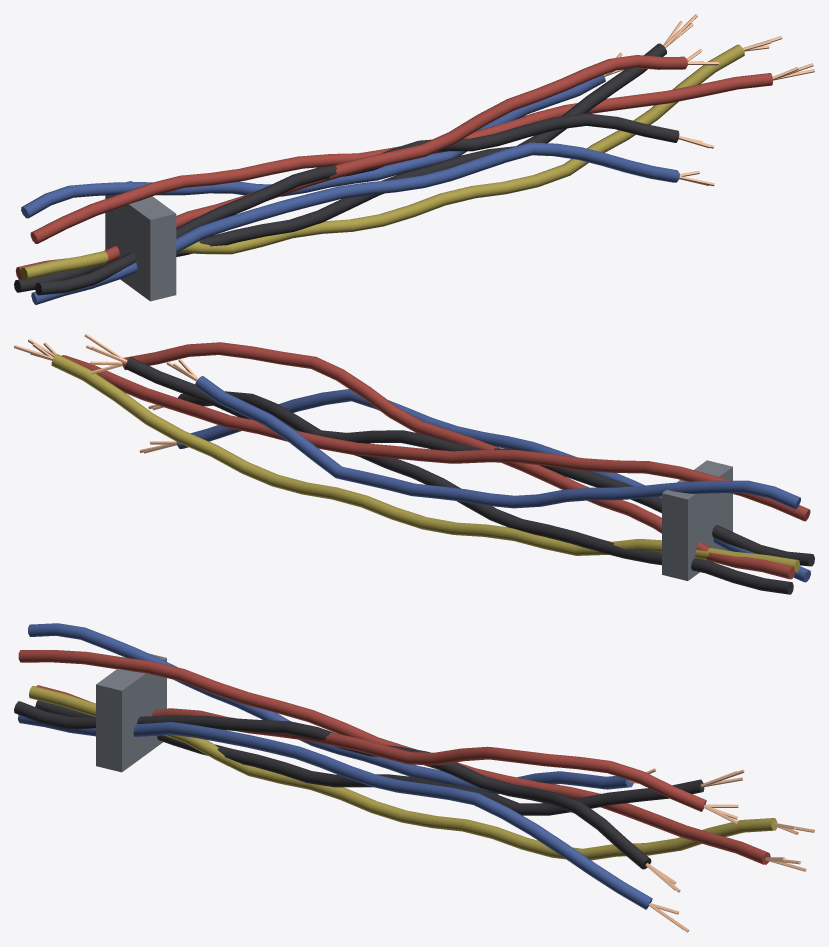
File: cable_bundle.glb
The picture shows the model from 3 angles, top to bottom: view 1: azimuth 30°, elevation 25°; view 2: azimuth 150°, elevation 25°; view 3: azimuth 330°, elevation 25°; orthographic projection.
Parts seen in each view (by area): view 1: cable_bundle; view 2: cable_bundle; view 3: cable_bundle.
Boxes of the visible parts, x1=… form: cable_bundle: x1=14, y1=14, x2=814, y2=304; cable_bundle: x1=14, y1=333, x2=814, y2=594; cable_bundle: x1=14, y1=623, x2=814, y2=932.
Size of the model in its own units: 1.81 by 0.3115 by 0.2352.
